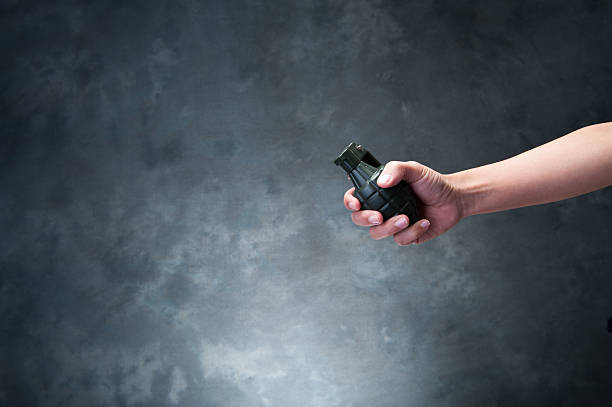e1: (337, 140, 423, 228)
